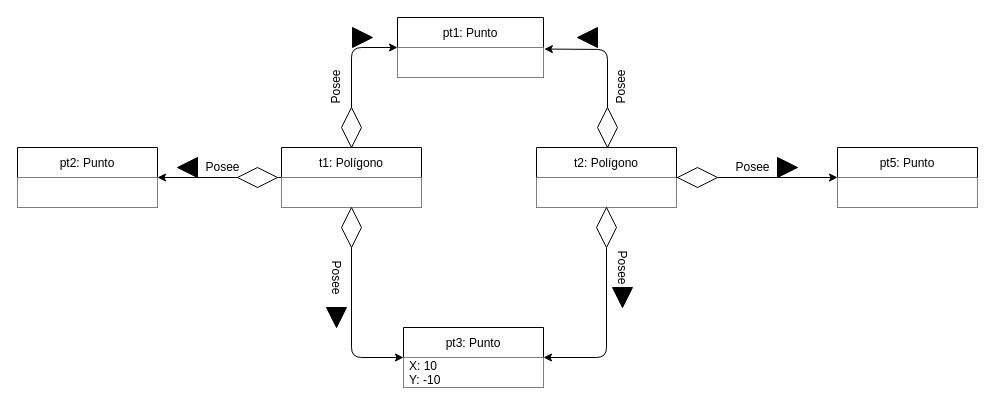
Some shapes in this 995 by 405 pixel diagram are drawn without their labels. The centre of each missing label's shape, as x and y in pixels:
"X: -10 Y: -10" belongs at [87,192].
"X: -10 Y: 10" belongs at [470,62].
"X: 10 Y: 10" belongs at [907,192].
